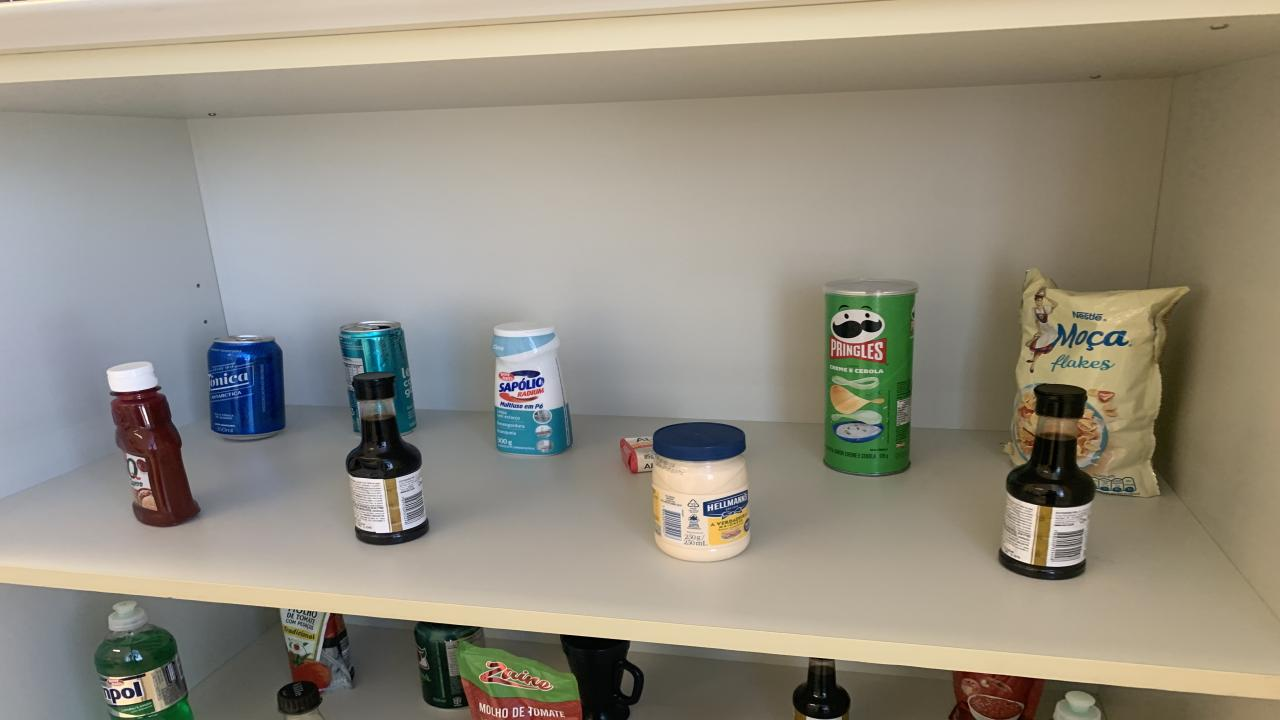Cleaner-Cleanup_Items: (492, 322, 572, 454)
Detergent-Cleanup_Items: (95, 602, 192, 720), (1052, 690, 1102, 720)
English_Sauce-Pantry_Items: (1000, 384, 1095, 579), (345, 371, 430, 546), (792, 658, 850, 720)
Flakes-Snacks: (1005, 268, 1188, 497)
Guarana_Can-Drinks: (415, 622, 485, 709)
Ketchup-Pantry_Items: (108, 362, 200, 527)
Mayonnaise-Pantry_Items: (652, 422, 750, 562)
Pringles-Snacks: (822, 281, 915, 476)
Soap-Cleanup_Items: (620, 435, 655, 472)
Soda-Drinks: (278, 681, 325, 720)
Tea-Drinks: (340, 321, 418, 435)
Tomato_Sauce-Pantry_Items: (458, 643, 582, 720), (280, 608, 355, 692), (950, 671, 1045, 720)
Tonic-Drinks: (208, 336, 285, 441)
